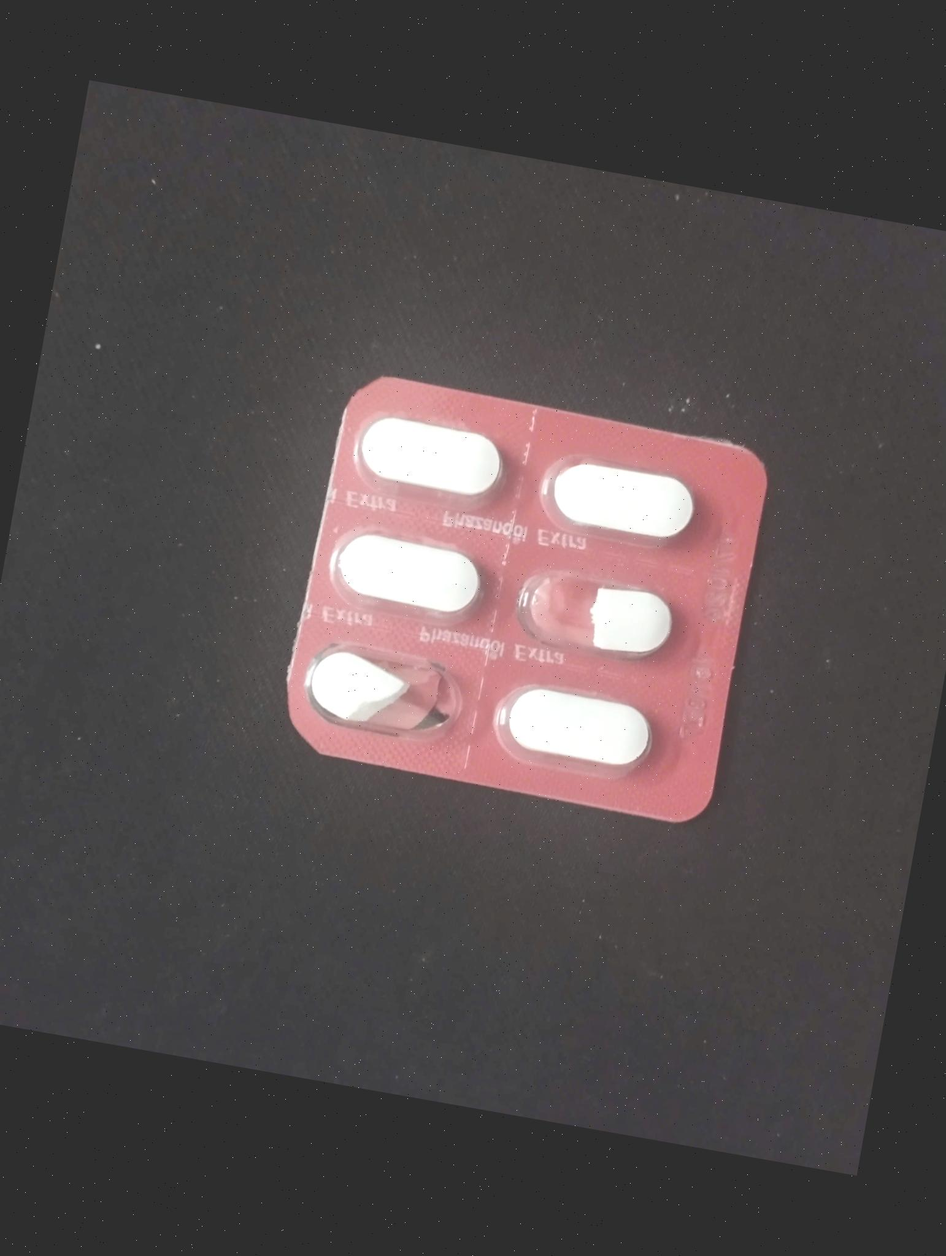Full: (342, 404, 517, 523), (324, 523, 504, 629), (542, 451, 707, 552), (494, 680, 664, 778)
Partial: (509, 553, 701, 672), (285, 634, 457, 742)
